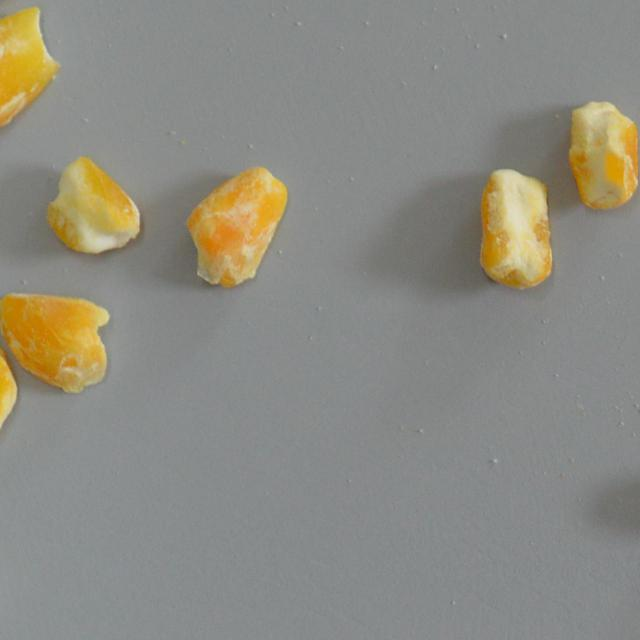dañado: (183, 162, 288, 294), (0, 286, 114, 396), (42, 153, 144, 258), (476, 165, 555, 295), (565, 96, 640, 214), (0, 3, 64, 134), (0, 328, 18, 450)
